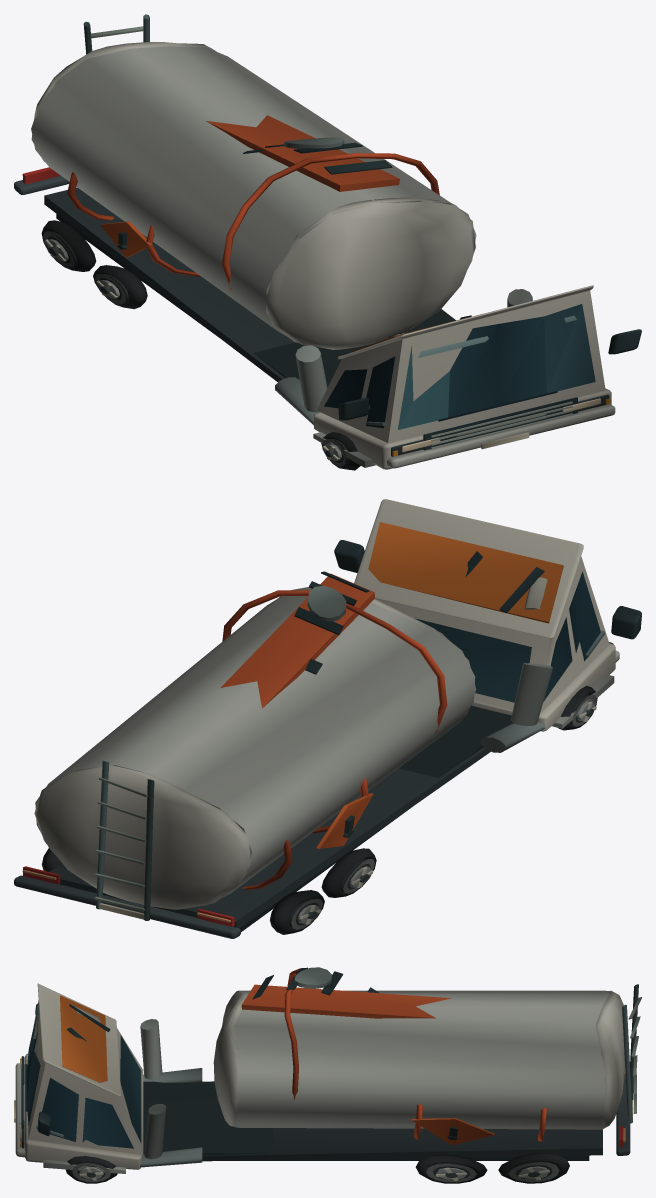
File: tanker.glb
3 renders of one model, top to bottom at view 1: azimuth 30°, elevation 25°; view 2: azimuth 150°, elevation 25°; view 3: azimuth 270°, elevation 25°, orthographic. The views are drawn at different scales.
Visible parts, largest first — view 1: tanker_body; view 2: tanker_body; view 3: tanker_body.
Part boxes in pixels (<box>): tanker_body: <box>14,14,641,470</box>; tanker_body: <box>14,499,641,938</box>; tanker_body: <box>14,967,641,1183</box>.
Bounding box in the file's own units: 3.03 × 1.95 × 6.84.
